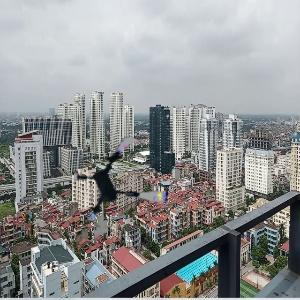drone: (75, 136, 171, 232)
